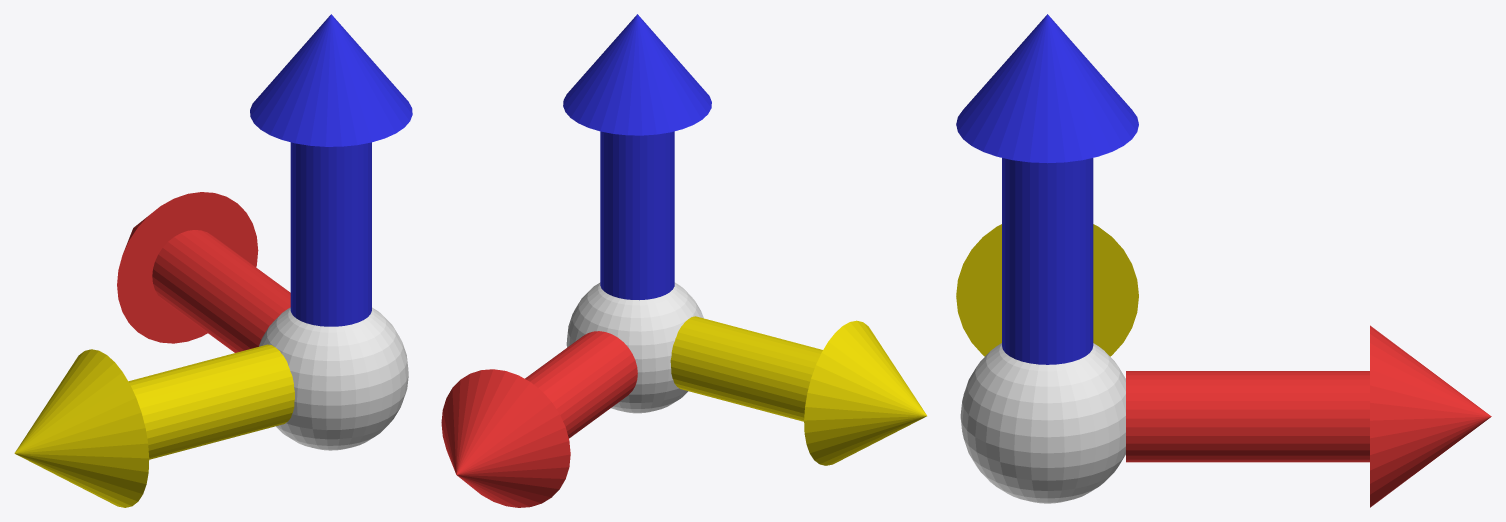
Rendered from LorentzChargeArrows.gltf.
3 renders of one model, left to right at view 1: azimuth 30°, elevation 25°; view 2: azimuth 150°, elevation 25°; view 3: azimuth 270°, elevation 25°, orthographic. The views are drawn at different scales.
Parts seen in each view (by area): view 1: Arrow.004, Sphere; view 2: Arrow.004, Sphere; view 3: Arrow.004, Sphere.
Boxes of the visible parts, x1,y1,x2,y2 form: Arrow.004: (14,14,412,507); Sphere: (259,307,408,450); Arrow.004: (441,14,926,507); Sphere: (566,282,703,413); Arrow.004: (956,14,1491,507); Sphere: (960,343,1125,503).
Size of the model in its own units: 2.31 by 2.47 by 2.46.
